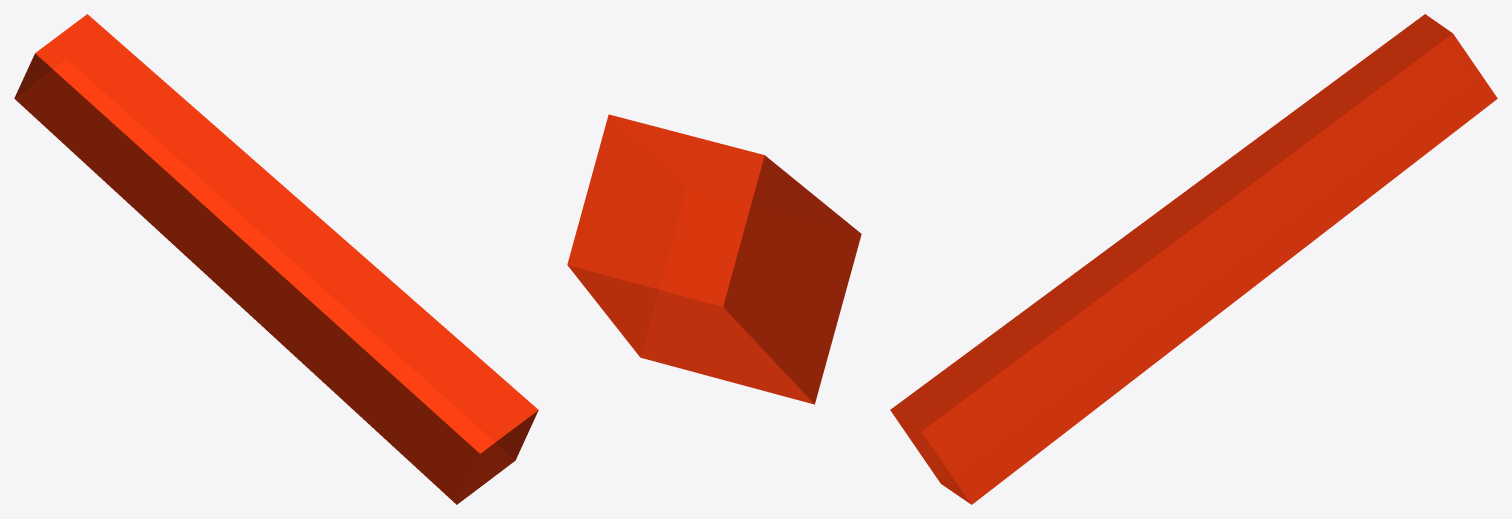
The model's file is Event_421556567_EBrechit_17.fbx.
3 views of the same model, side by side, from view 1: azimuth 30°, elevation 25°; view 2: azimuth 150°, elevation 25°; view 3: azimuth 270°, elevation 25° (orthographic). The views are drawn at different scales.
Parts seen in each view (by area): view 1: Model; view 2: Model; view 3: Model.
Part boxes in pixels (x1=…): Model: x1=14, y1=14, x2=538, y2=504; Model: x1=567, y1=114, x2=861, y2=404; Model: x1=890, y1=14, x2=1497, y2=504.
Size of the model in its own units: 0.2215 by 0.2735 by 0.3965.
